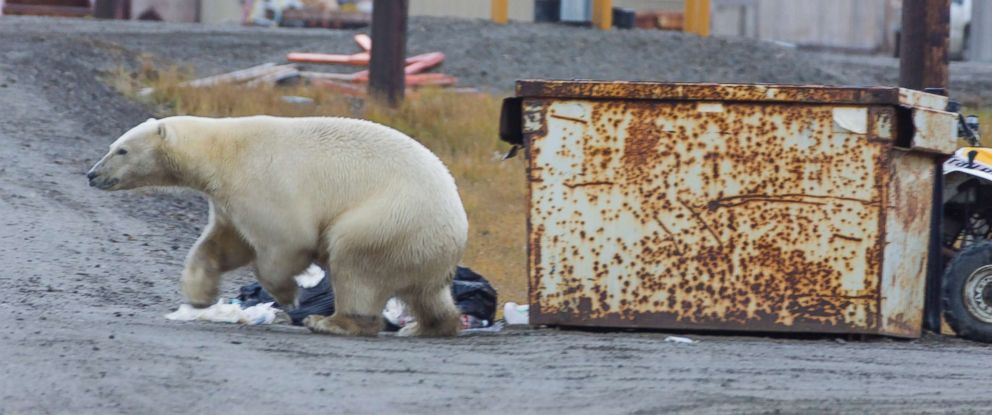Polar Bear: (85, 101, 479, 345)
